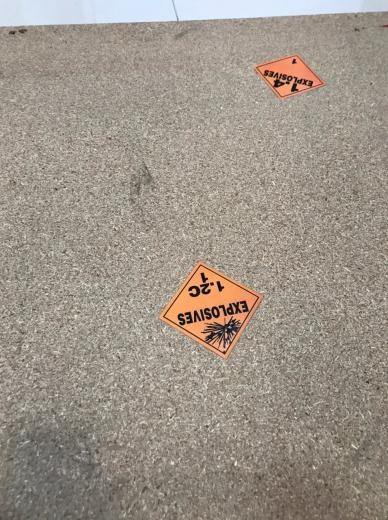explosive: (160, 261, 263, 355), (255, 55, 325, 97)
